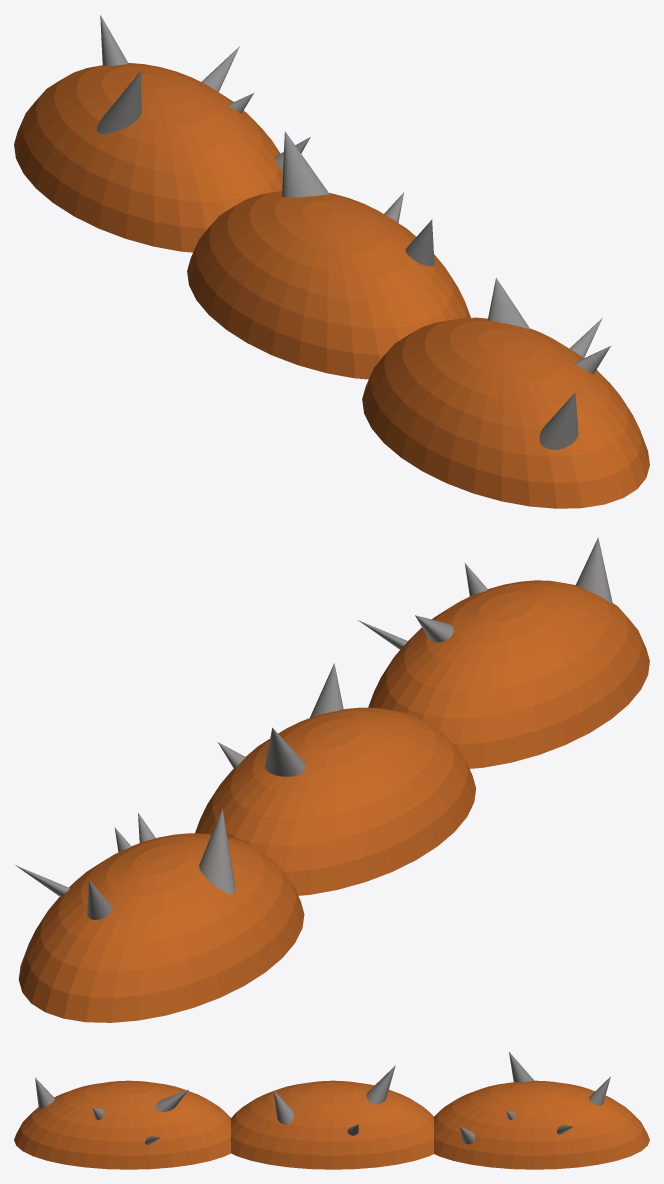
File: Pinches.fbx
3 views of the same model, one above another, from view 1: azimuth 30°, elevation 25°; view 2: azimuth 150°, elevation 25°; view 3: azimuth 270°, elevation 25° (orthographic). The views are drawn at different scales.
Visible parts, largest first — view 1: Sphere.001; view 2: Sphere.001; view 3: Sphere.001.
Boxes of the visible parts, <box> form: Sphere.001: <box>14,15,649,508</box>; Sphere.001: <box>15,537,649,1022</box>; Sphere.001: <box>14,1052,649,1169</box>.
Bounding box in the file's own units: 160 × 93.04 × 661.
1 material, 1 textured.
